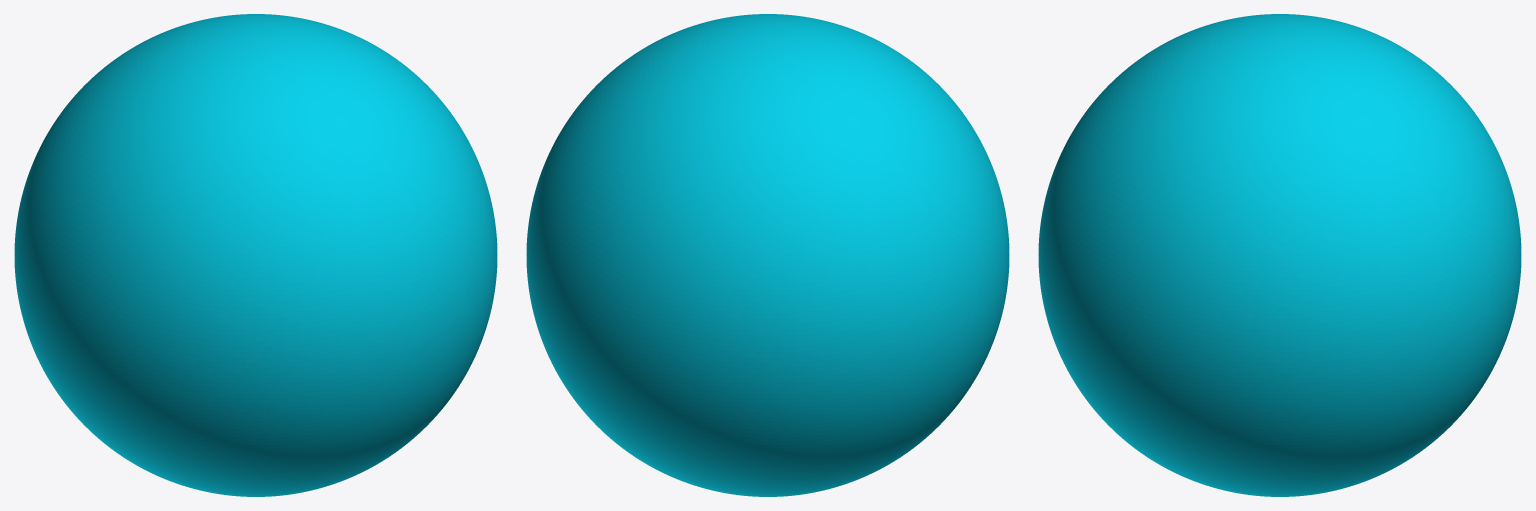
File: Ball.fbx
3 views of the same model, side by side, from view 1: azimuth 30°, elevation 25°; view 2: azimuth 150°, elevation 25°; view 3: azimuth 270°, elevation 25° (orthographic).
Visible parts, largest first — view 1: Sphere; view 2: Sphere; view 3: Sphere.
Boxes of the visible parts, x1=… form: Sphere: x1=14, y1=14, x2=497, y2=496; Sphere: x1=526, y1=14, x2=1009, y2=496; Sphere: x1=1038, y1=14, x2=1521, y2=496.
Size of the model in its own units: 200 by 200 by 200.
